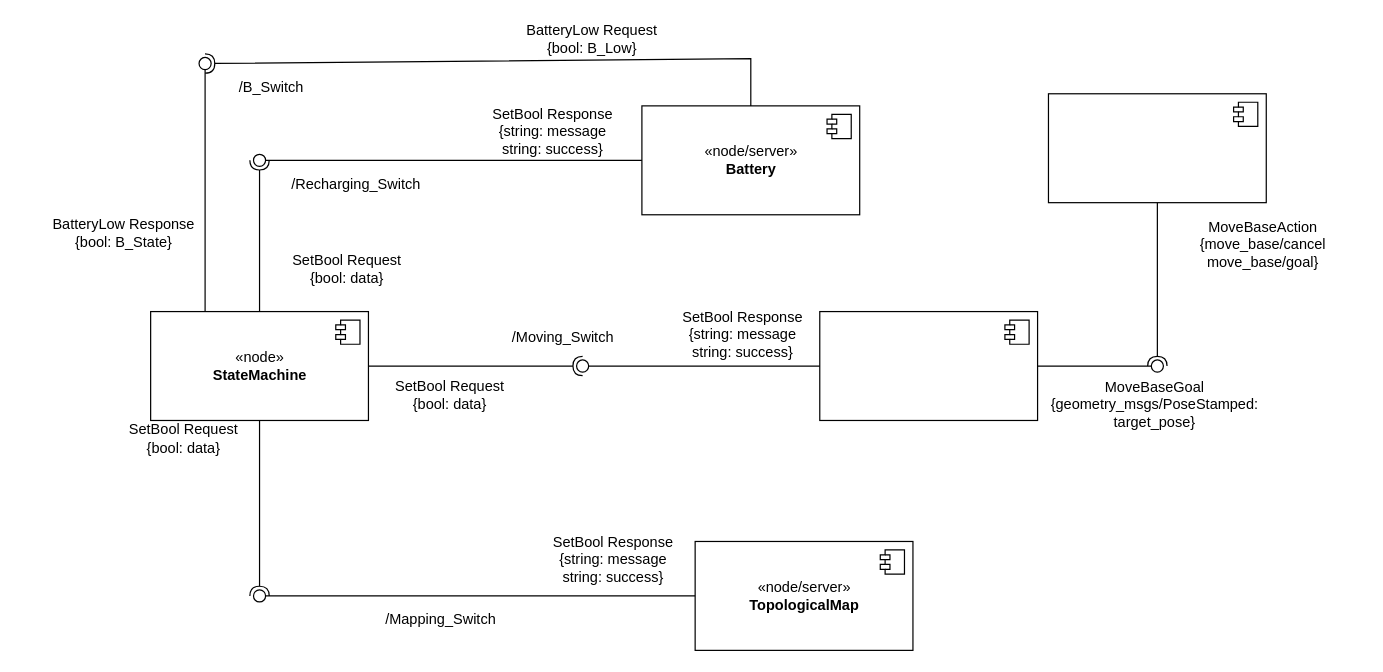
Image size: 1383x672. Some labels were removed from this diagram. The centre of each missing label's shape, as x and y in pixels:
"«action» MoveBase" goes at point 1156,148.
"«node/server» RandomMovement" goes at point 928,365.
